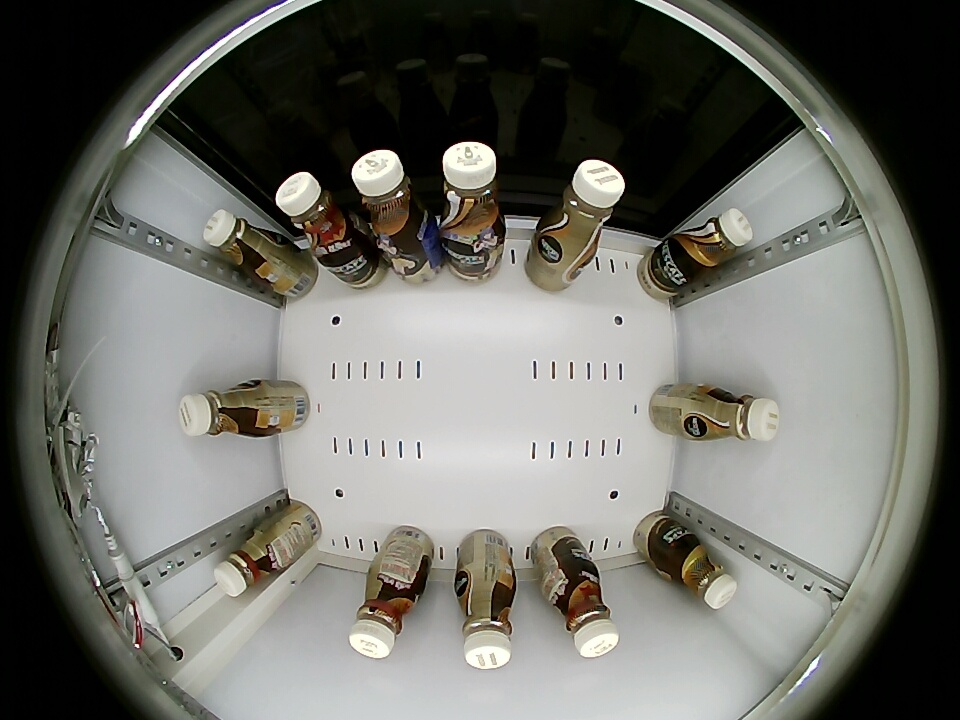kafei: (535, 159, 624, 259), (277, 171, 365, 265), (350, 561, 429, 659), (352, 149, 434, 242), (437, 141, 505, 243), (546, 571, 619, 659), (202, 209, 285, 282), (671, 207, 754, 278), (455, 575, 516, 671), (666, 534, 737, 610), (179, 380, 266, 441), (213, 528, 284, 596), (697, 386, 780, 444)
